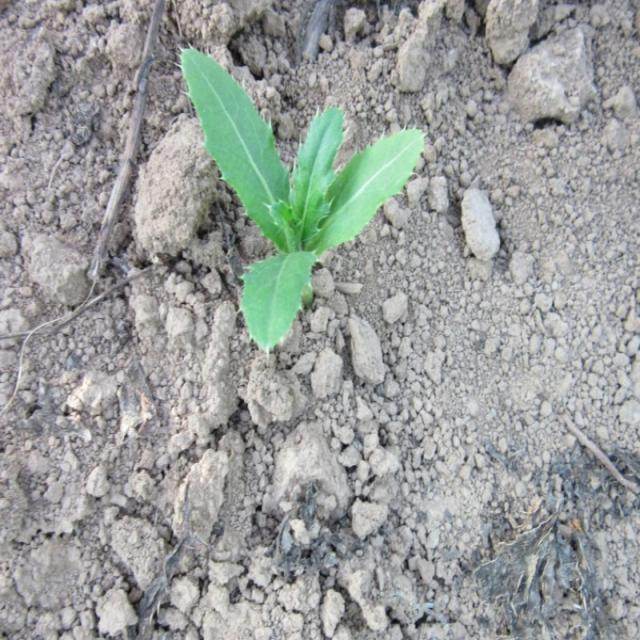cs: (176, 39, 429, 354)
